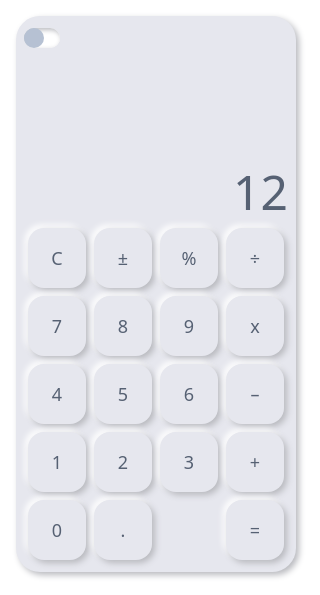
присвоение отрицательного значения
Step 1. Click the button with test id "btn-num-negate" → (123, 258), box [94,228,152,288]
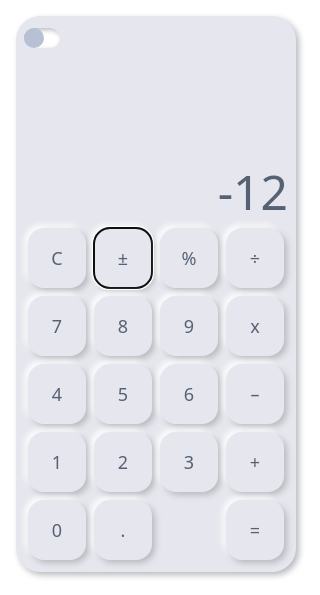
Expected: the text "-12" is shown, [218,168,288,216]
